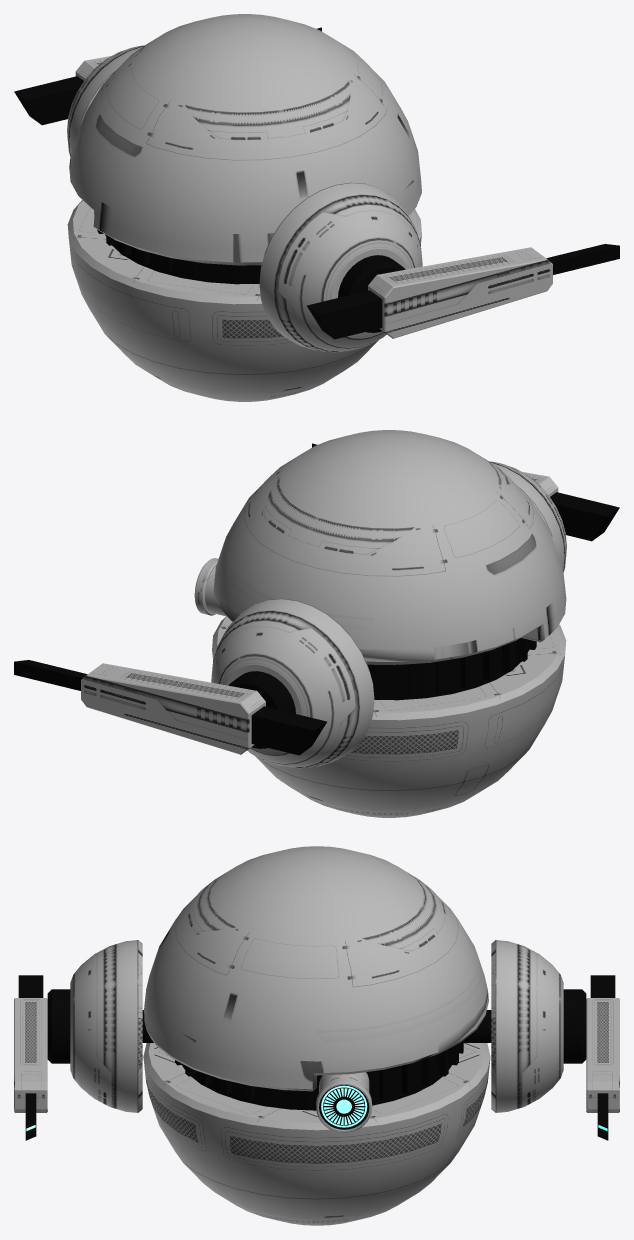
File: robot1.fbx
3 views of the same model, one above another, from view 1: azimuth 30°, elevation 25°; view 2: azimuth 150°, elevation 25°; view 3: azimuth 270°, elevation 25° (orthographic). The views are drawn at different scales.
Visible parts, largest first — view 1: Object_8, Object_10; view 2: Object_8, Object_10; view 3: Object_8, Object_10, Object_9.
Boxes of the visible parts, x1,y1,x2,y2 form: Object_8: (67,14,552,401); Object_10: (14,27,619,339); Object_8: (81,430,566,817); Object_10: (14,443,619,755); Object_8: (14,846,619,1225); Object_10: (18,975,615,1140); Object_9: (26,1085,607,1131).
Size of the model in its own units: 859 by 767 by 1213.
3 materials, 1 textured.
